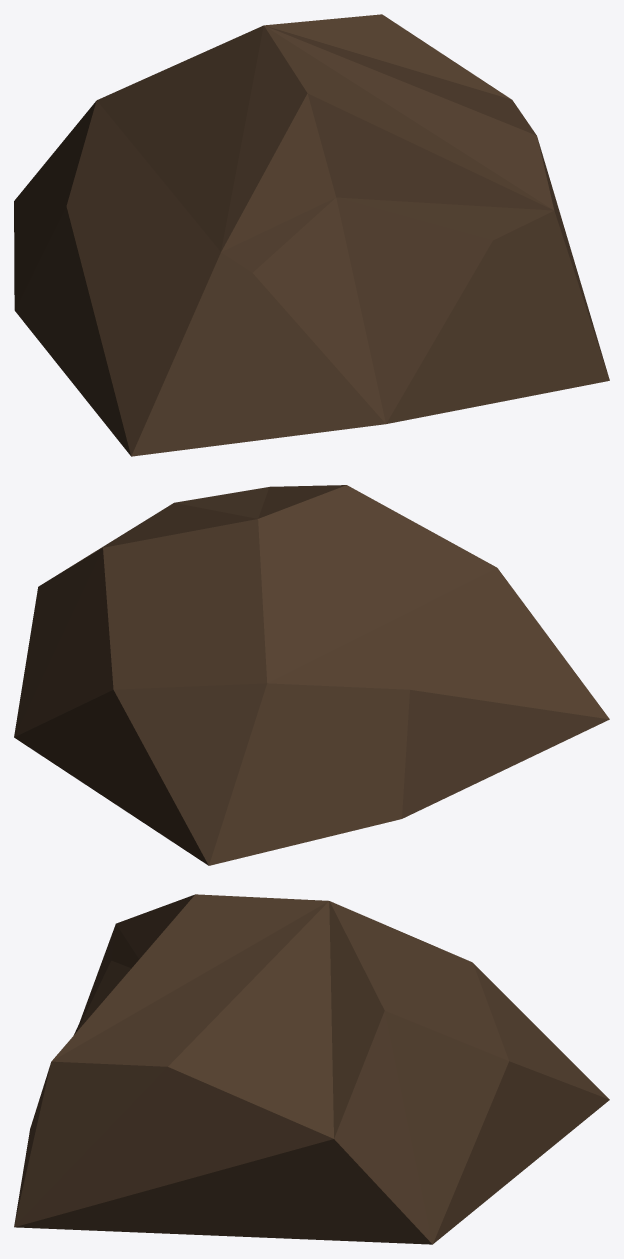
Rendered from Rock_5_Dark_Brown.fbx.
3 views of the same model, one above another, from view 1: azimuth 30°, elevation 25°; view 2: azimuth 150°, elevation 25°; view 3: azimuth 270°, elevation 25° (orthographic). The views are drawn at different scales.
Parts seen in each view (by area): view 1: Rock_5_Dark_Brown; view 2: Rock_5_Dark_Brown; view 3: Rock_5_Dark_Brown.
Part boxes in pixels (x1=…): Rock_5_Dark_Brown: x1=14, y1=14, x2=609, y2=456; Rock_5_Dark_Brown: x1=14, y1=485, x2=609, y2=865; Rock_5_Dark_Brown: x1=14, y1=894, x2=609, y2=1244.
Size of the model in its own units: 195 by 111 by 211.
